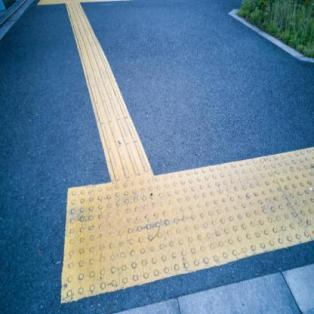Podoctatil: (62, 4, 313, 302)
